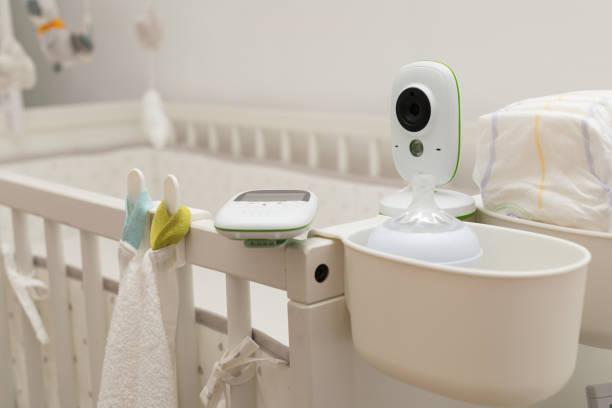camera: (378, 42, 468, 191)
